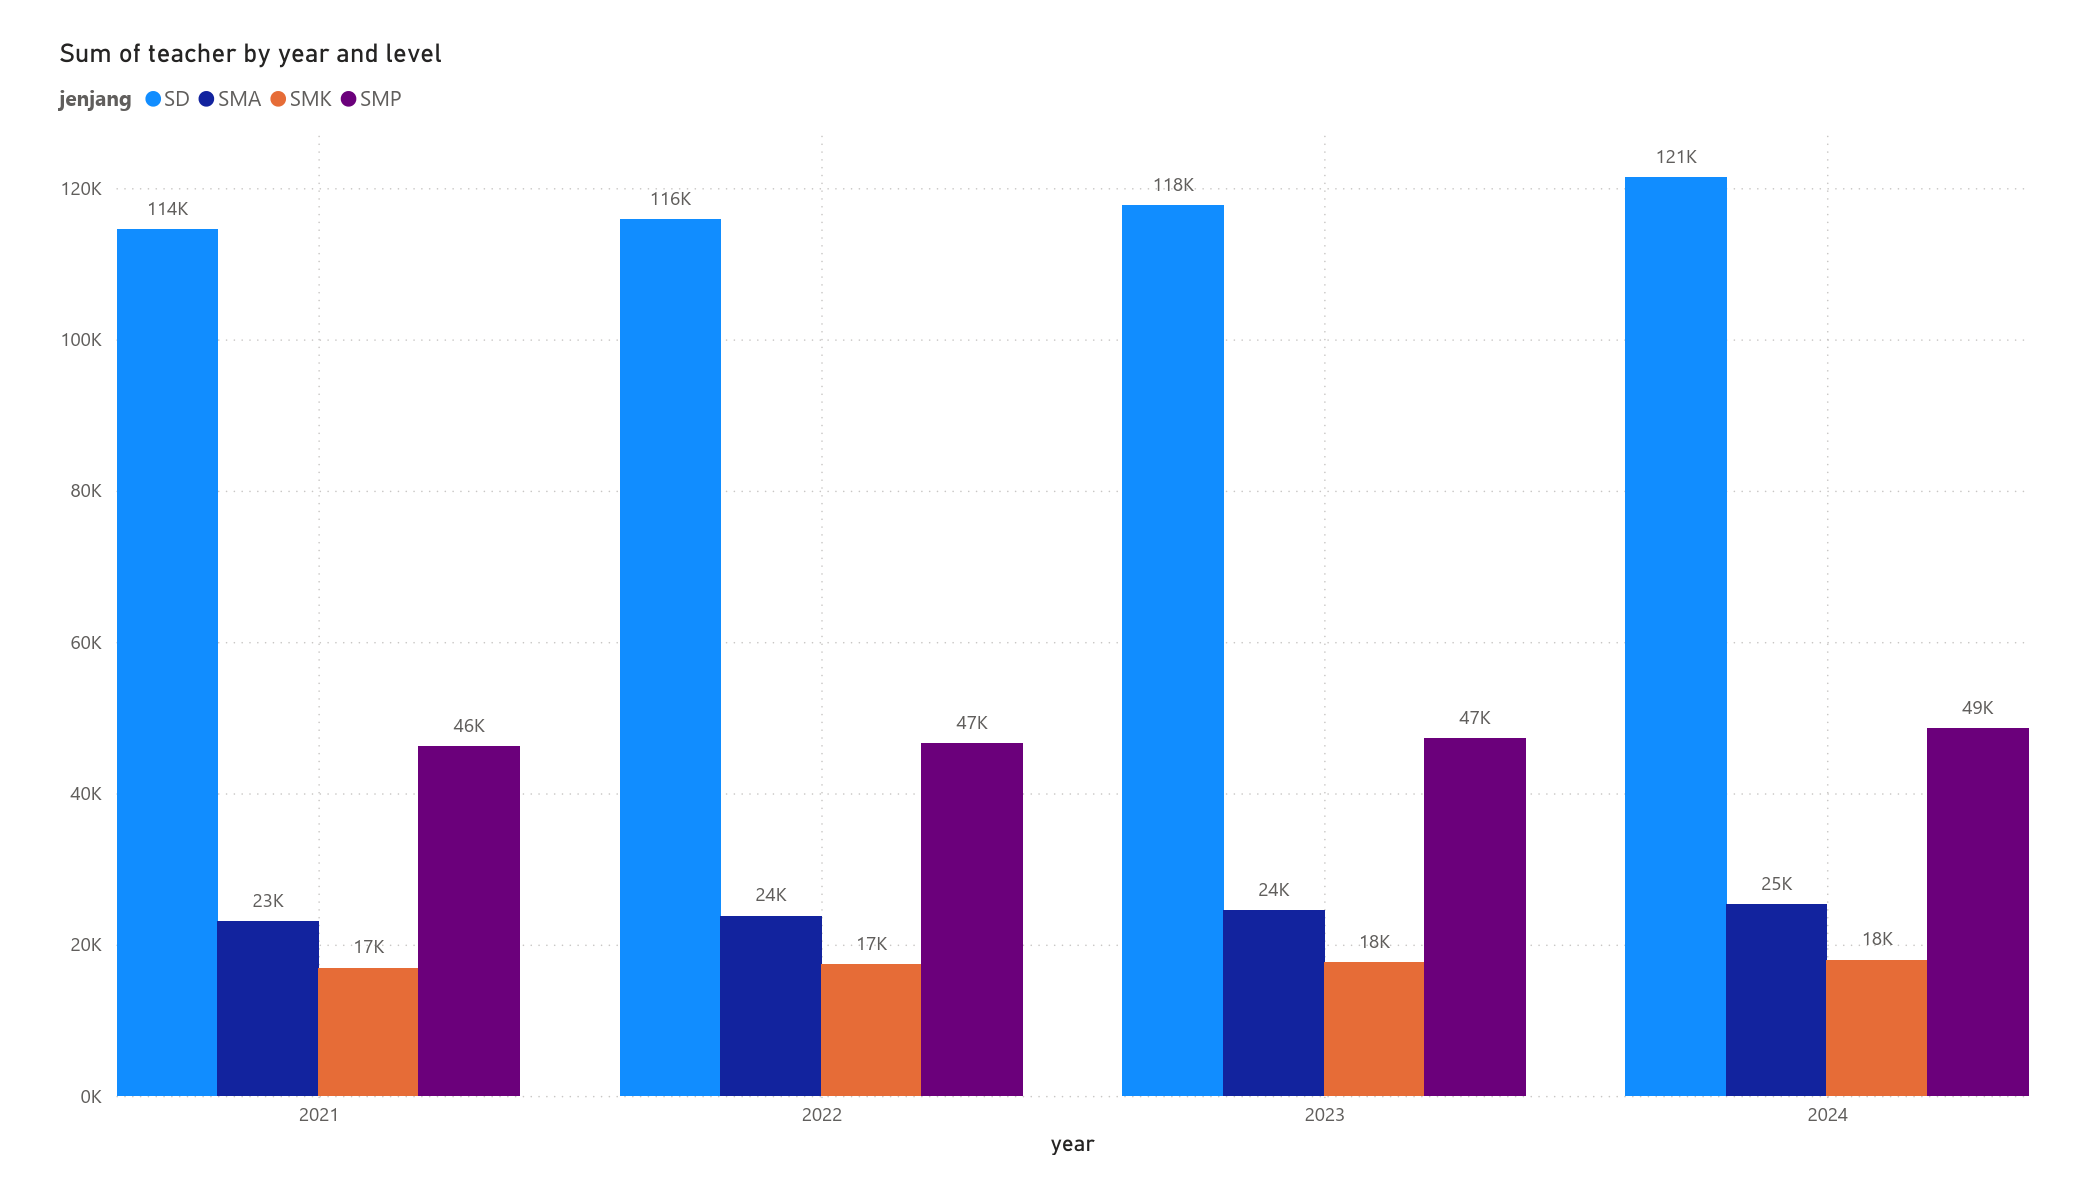

This screenshot's page, from the dashboard's own definition file:
{"tool":"powerbi","page":{"name":"Jmlh guru","canvas":[1280,720],"ordinal":1},"visuals":[{"type":"clusteredColumnChart","title":"Sum of teacher by year and level","fields":{"Category":["df_borneo.tahun"],"Y":["Sum(df_borneo.kepala_sekolah_&_guru)"],"Series":["df_borneo.jenjang"]},"box":[9.4,0,1269.9,720],"z":0}]}

Visuals, with their boxes on the page's 1280x720 design canvas (x1, y1, x2, y2). These are canvas units, not pixel positions in the 2075x1200 screenshot, which may show the page scaled, cropped or inside an application window:
"Sum of teacher by year and level" clusteredColumnChart: box=[9, 0, 1279, 720]
